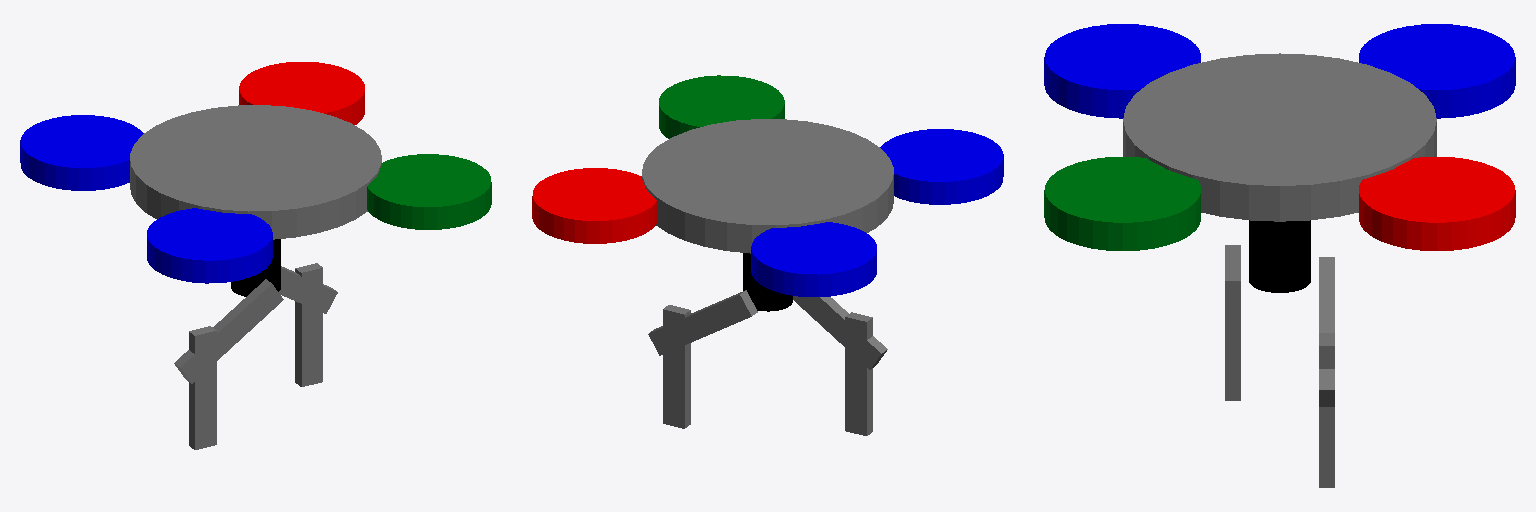
URDF robot description (quadrotor):
<?xml version="1.0"?>
<robot name="quadrotor">
  <link name="base_link">
    <visual>
      <origin xyz="0 0 0.0"/>
      <geometry>
        <cylinder radius="0.1" length="0.025"/>
      </geometry>
      <material name="Grey">
        <color rgba="0.5 0.5 0.5 1.0"/>
      </material>
    </visual>
    <collision>
      <origin xyz="0 0 0"/>
      <geometry>
        <cylinder radius="0.2" length="0.04"/>
      </geometry>
    </collision>
    <inertial>
      <mass value="1.9"/>
      <inertia ixx="0.05" ixy="0.0" ixz="0.0" iyy="0.05" iyz="0.0" izz="0.05"/>
    </inertial>
  </link>

  <link name="front_left_prop">
    <visual>
      <origin xyz="0 0 0"/>
      <geometry>
        <cylinder radius="0.05" length="0.02"/>
      </geometry>
      <material name="Red">
        <color rgba="1 0 0 1.0"/>
      </material>
    </visual>
    <inertial>
      <mass value="0.01"/>
      <inertia ixx="0.000001" ixy="0.0" ixz="0.0" iyy="0.000001" iyz="0.0" izz="0.000001"/>
    </inertial>
  </link>

  <link name="front_right_prop">
    <visual>
      <origin xyz="0 0 0"/>
      <geometry>
        <cylinder radius="0.05" length="0.02"/>
      </geometry>
      <material name="Green">
        <color rgba="0 0.50 0.1 1.0"/>
      </material>
    </visual>
    <inertial>
      <mass value="0.01"/>
      <inertia ixx="0.000001" ixy="0.0" ixz="0.0" iyy="0.000001" iyz="0.0" izz="0.000001"/>
    </inertial>
  </link>

  <link name="back_left_prop">
    <visual>
      <origin xyz="0 0 0"/>
      <geometry>
        <cylinder radius="0.05" length="0.02"/>
      </geometry>
      <material name="Blue">
        <color rgba="0 0 1 1.0"/>
      </material>
    </visual>
    <inertial>
      <mass value="0.01"/>
      <inertia ixx="0.000001" ixy="0.0" ixz="0.0" iyy="0.000001" iyz="0.0" izz="0.000001"/>
    </inertial>
  </link>

  <link name="back_right_prop">
    <visual>
      <origin xyz="0 0 0"/>
      <geometry>
        <cylinder radius="0.05" length="0.02"/>
      </geometry>
      <material name="Blue">
        <color rgba="0 0 1 1.0"/>
      </material>
    </visual>
    <inertial>
      <mass value="0.01"/>
      <inertia ixx="0.000001" ixy="0.0" ixz="0.0" iyy="0.000001" iyz="0.0" izz="0.000001"/>
    </inertial>
  </link>

  <joint name="base_link_to_front_left_prop" type="fixed" dont_collapse="true">
    <parent link="base_link"/>
    <child link="front_left_prop"/>
    <origin xyz="0.100 0.100 0"/>
  </joint>

  <joint name="base_link_to_front_right_prop" type="fixed" dont_collapse="true">
    <parent link="base_link"/>
    <child link="front_right_prop"/>
    <origin xyz="0.100 -0.100 0"/>
  </joint>

  <joint name="base_link_to_back_right_prop" type="fixed" dont_collapse="true">
    <parent link="base_link"/>
    <child link="back_right_prop"/>
    <origin xyz="-0.100 -0.100 0"/>
  </joint>

  <joint name="base_link_to_back_left_prop" type="fixed" dont_collapse="true">
    <parent link="base_link"/>
    <child link="back_left_prop"/>
    <origin xyz="-0.100 0.100 0"/>
  </joint>

  <!-- Gripper base -->
  <link name="gripper_base">
    <visual>
      <origin xyz="0 0 0"/>
      <geometry>
        <cylinder radius="0.02" length="0.1"/>
      </geometry>
      <material name="Black">
        <color rgba="0 0 0 1.0"/>
      </material>
    </visual>
    <collision>
      <origin xyz="0 0 0"/>
      <geometry>
        <cylinder radius="0.02" length="0.1"/>
      </geometry>
    </collision>
    <inertial>
      <mass value="0.1"/>
      <inertia ixx="0.0001" ixy="0.0" ixz="0.0" iyy="0.0001" iyz="0.0" izz="0.0001"/>
    </inertial>
  </link>

  <joint name="base_link_to_gripper_base" type="fixed">
    <parent link="base_link"/>
    <child link="gripper_base"/>
    <origin xyz="0 0 -0.05" rpy="0 0 0"/>
  </joint>

  <!-- Left finger -->
  <link name="finger_left">
    <visual>
      <origin xyz="0 0 -0.05" rpy="0 0 0"/>
      <geometry>
        <box size="0.02 0.01 0.1"/>
      </geometry>
      <material name="Grey">
        <color rgba="0.5 0.5 0.5 1.0"/>
      </material>
    </visual>
    <collision>
      <origin xyz="0 0 -0.05" rpy="0 0 0"/>
      <geometry>
        <box size="0.02 0.01 0.1"/>
      </geometry>
    </collision>
    <inertial>
      <mass value="0.01"/>
      <inertia ixx="0.00001" ixy="0.0" ixz="0.0" iyy="0.00001" iyz="0.0" izz="0.00001"/>
    </inertial>
  </link>

  <joint name="gripper_base_to_finger_left" type="fixed">
    <parent link="gripper_base"/>
    <child link="finger_left"/>
    <origin xyz="0 0.03 -0.04" rpy="0 -1 0"/>
  </joint>

  <link name="finger_left_extend">
    <visual>
      <origin xyz="0 0 -0.05" rpy="0 0.5 0"/>
      <geometry>
        <box size="0.02 0.01 0.1"/>
      </geometry>
      <material name="Grey">
        <color rgba="0.5 0.5 0.5 1.0"/>
      </material>
    </visual>
    <collision>
      <origin xyz="0 0 -0.05" rpy="0 0.5 0"/>
      <geometry>
        <box size="0.02 0.01 0.1"/>
      </geometry>
    </collision>
    <inertial>
      <mass value="0.01"/>
      <inertia ixx="0.00001" ixy="0.0" ixz="0.0" iyy="0.00001" iyz="0.0" izz="0.00001"/>
    </inertial>
  </link>
  <joint name="finger_left_to_extend" type="fixed">
    <parent link="finger_left"/>
    <child link="finger_left_extend"/>
    <origin xyz="0 0 -0.05" rpy="0 0.5 0"/>
  </joint>
  <!-- Right finger -->
  <link name="finger_right">
    <visual>
      <origin xyz="0 0 -0.05" rpy="0 0 0"/>
      <geometry>
        <box size="0.02 0.01 0.1"/>
      </geometry>
      <material name="Grey">
        <color rgba="0.5 0.5 0.5 1.0"/>
      </material>
    </visual>
    <collision>
      <origin xyz="0 0 -0.05" rpy="0 0 0"/>
      <geometry>
        <box size="0.02 0.01 0.1"/>
      </geometry>
    </collision>
    <inertial>
      <mass value="0.01"/>
      <inertia ixx="0.00001" ixy="0.0" ixz="0.0" iyy="0.00001" iyz="0.0" izz="0.00001"/>
    </inertial>
  </link>

  <joint name="gripper_base_to_finger_right" type="fixed">
    <parent link="gripper_base"/>
    <child link="finger_right"/>
    <origin xyz="0 -0.03 -0.04" rpy="0 1 0"/>
  </joint>

  <link name="finger_right_extend">
    <visual>
      <origin xyz="0 0 -0.05" rpy="0 -0.5 0"/>
      <geometry>
        <box size="0.02 0.01 0.1"/>
      </geometry>
      <material name="Grey">
        <color rgba="0.5 0.5 0.5 1.0"/>
      </material>
</visual>
    <collision>
      <origin xyz="0 0 -0.05" rpy="0 -0.5 0"/>
      <geometry>
        <box size="0.02 0.01 0.1"/>
      </geometry>
    </collision>
    <inertial>
      <mass value="0.01"/>
      <inertia ixx="0.00001" ixy="0.0" ixz="0.0" iyy="0.00001" iyz="0.0" izz="0.00001"/>
    </inertial>
  </link>
  <joint name="finger_right_to_extend" type="fixed">
    <parent link="finger_right"/>
    <child link="finger_right_extend"/>
    <origin xyz="0 0 -0.05" rpy="0 -0.5 0"/>
  </joint>
</robot>

--- Facts derived from the render (not from the file) ---
Views: 3 orthographic renders of the robot side by side, from view 1: azimuth 30°, elevation 25°; view 2: azimuth 150°, elevation 25°; view 3: azimuth 270°, elevation 25°.
Robot: quadrotor — 10 links, 9 joints (9 fixed); root link base_link; default pose: all joints at 0.
Visible links, largest first — view 1: base_link, back_right_prop, front_right_prop, back_left_prop, front_left_prop, finger_right, finger_left_extend, finger_right_extend, finger_left, gripper_base; view 2: base_link, back_left_prop, front_left_prop, back_right_prop, front_right_prop, finger_left_extend, finger_right_extend, finger_right, finger_left, gripper_base; view 3: base_link, front_left_prop, front_right_prop, back_left_prop, back_right_prop, gripper_base, finger_left_extend, finger_left, finger_right_extend, finger_right.
Boxes of the visible links, <box> form: base_link: <box>130,105,381,239</box>; back_right_prop: <box>147,208,272,283</box>; front_right_prop: <box>367,154,491,229</box>; back_left_prop: <box>20,115,143,190</box>; front_left_prop: <box>239,62,364,124</box>; finger_right: <box>174,279,283,383</box>; finger_left_extend: <box>295,263,322,386</box>; finger_right_extend: <box>189,326,216,449</box>; finger_left: <box>279,266,337,313</box>; gripper_base: <box>231,239,280,296</box>; base_link: <box>642,119,893,253</box>; back_left_prop: <box>751,222,876,296</box>; front_left_prop: <box>532,168,656,243</box>; back_right_prop: <box>880,129,1003,204</box>; front_right_prop: <box>659,75,784,138</box>; finger_left_extend: <box>663,305,690,428</box>; finger_right_extend: <box>845,312,872,435</box>; finger_right: <box>793,296,887,369</box>; finger_left: <box>648,290,757,355</box>; gripper_base: <box>743,253,792,311</box>; base_link: <box>1123,53,1436,221</box>; front_left_prop: <box>1359,157,1515,250</box>; front_right_prop: <box>1044,157,1200,250</box>; back_left_prop: <box>1359,24,1515,118</box>; back_right_prop: <box>1044,24,1200,118</box>; gripper_base: <box>1249,220,1310,292</box>; finger_left_extend: <box>1319,333,1334,487</box>; finger_left: <box>1319,257,1334,406</box>; finger_right_extend: <box>1225,245,1240,400</box>; finger_right: <box>1225,250,1240,296</box>.
Size in the robot's own frame: 0.3 by 0.3 by 0.2234 metres.
Geometry: primitives only (box / cylinder / sphere), no mesh files.